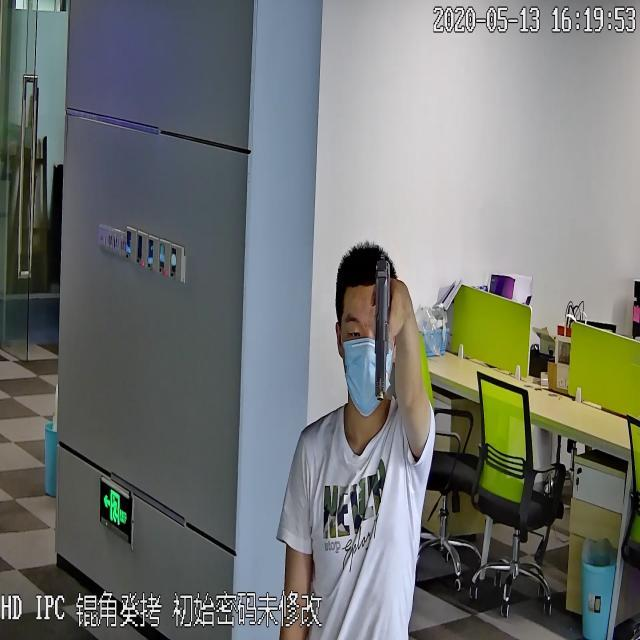gun: (373, 249, 393, 401)
